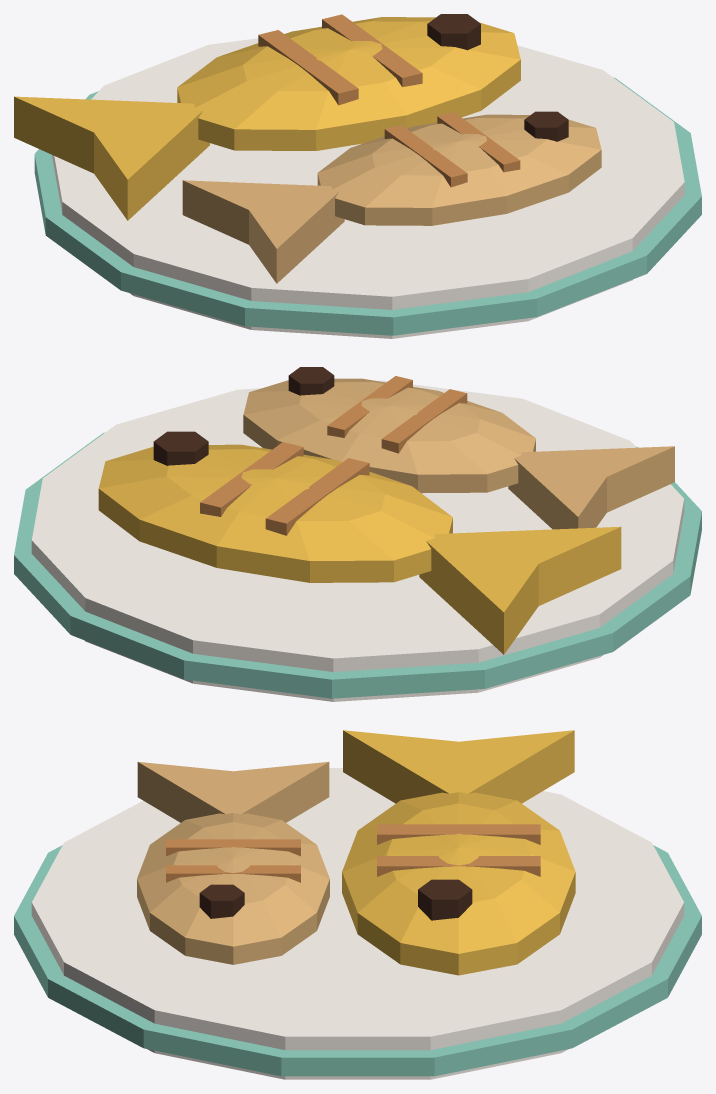
The model's file is CatCafe_Menu_FishBiscuit.glb.
The picture shows the model from 3 angles, top to bottom: view 1: azimuth 30°, elevation 25°; view 2: azimuth 150°, elevation 25°; view 3: azimuth 270°, elevation 25°; orthographic projection. The views are drawn at different scales.
Visible parts, largest first — view 1: CatCafe_Menu_FishBiscuit_Plate, CatCafe_Menu_FishBiscuit; view 2: CatCafe_Menu_FishBiscuit_Plate, CatCafe_Menu_FishBiscuit; view 3: CatCafe_Menu_FishBiscuit_Plate, CatCafe_Menu_FishBiscuit.
Part boxes in pixels (x1,y1,x2,y2): CatCafe_Menu_FishBiscuit_Plate: [34, 38, 701, 338]; CatCafe_Menu_FishBiscuit: [14, 14, 601, 283]; CatCafe_Menu_FishBiscuit_Plate: [14, 380, 701, 701]; CatCafe_Menu_FishBiscuit: [98, 367, 674, 654]; CatCafe_Menu_FishBiscuit_Plate: [14, 768, 701, 1079]; CatCafe_Menu_FishBiscuit: [137, 730, 575, 975].
Bounding box in the file's own units: 1.13 × 0.263 × 1.16.
Materials: 1 (1 with a texture image).
